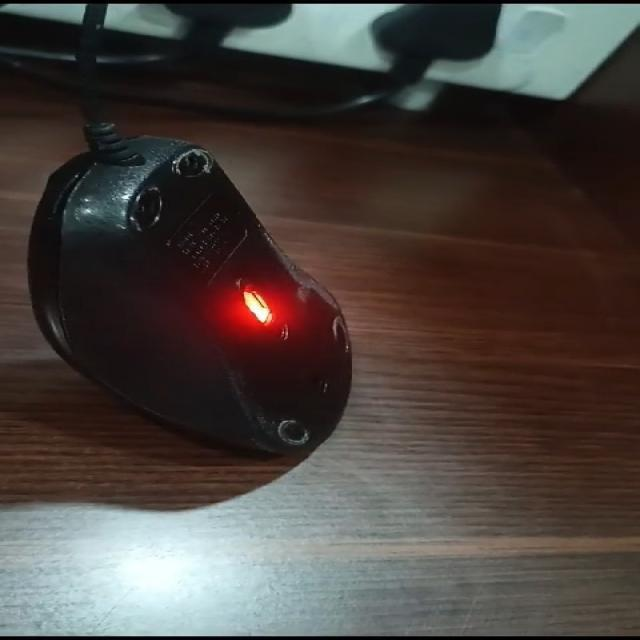Mouse: (0, 94, 401, 480)
